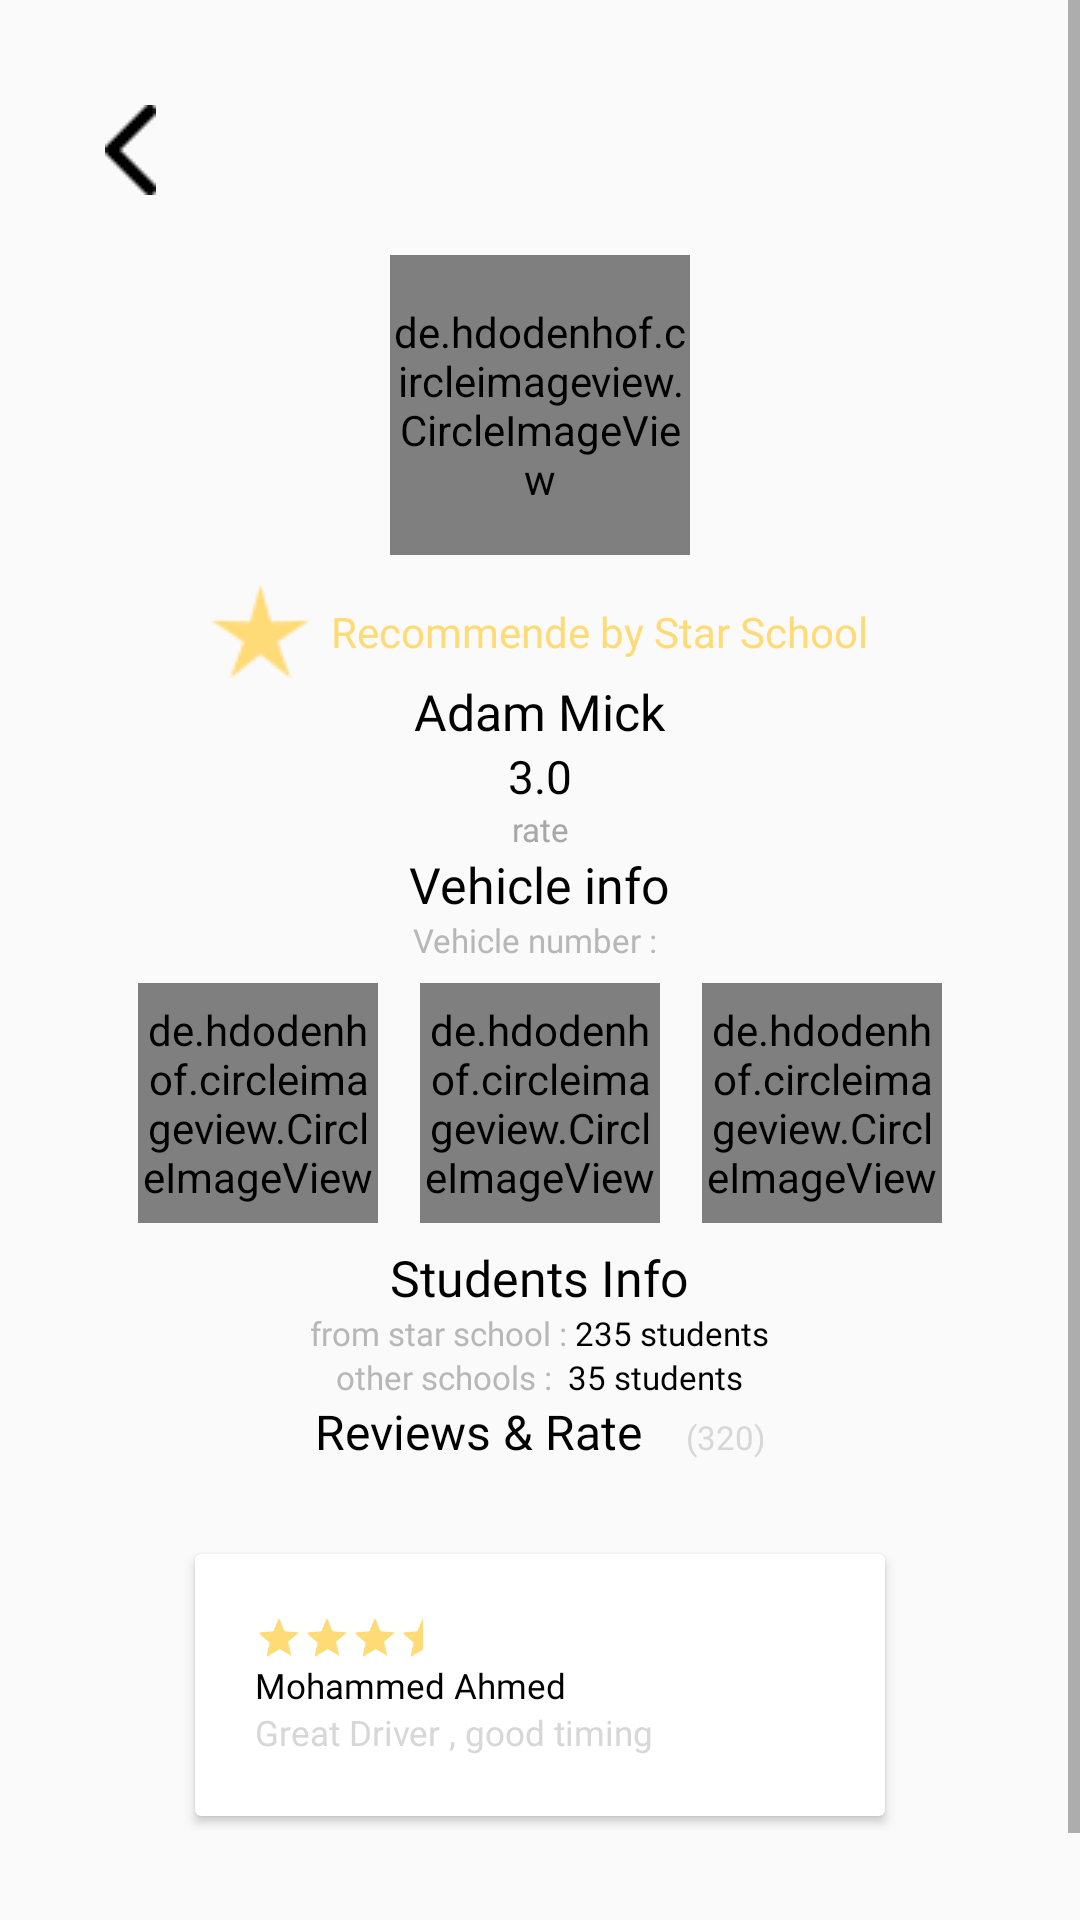

Icon click points for this 1080px x 1920px phone screenshot, format [x,y]:
back: [130,150]
